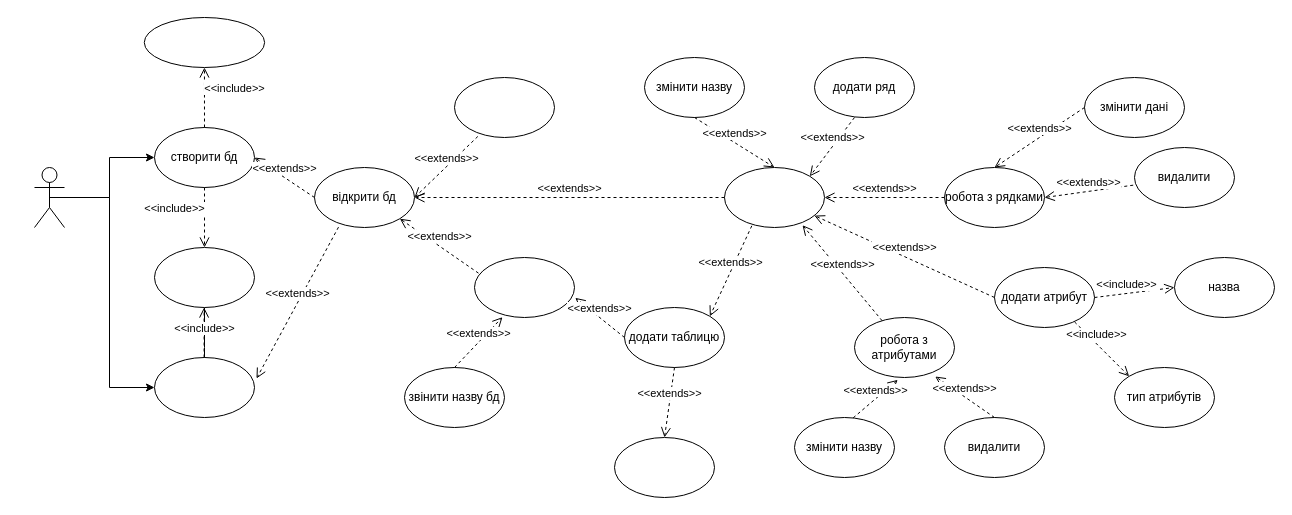
Some shapes in this 1292 by 515 pixel diagram are drawn without their labels. Here are the shapes that lost their labels. From the top down, the box of each, then its label:
(143, 16, 265, 68): назвати бд
(454, 76, 554, 138): зберегти бд
(34, 166, 64, 228): Користувач
(724, 166, 824, 228): відкрити таблицю
(154, 246, 254, 308): cтворити шлях
(474, 256, 574, 318): змінити бд
(154, 356, 254, 418): завантажити бд
(614, 436, 714, 498): назва таблиці
